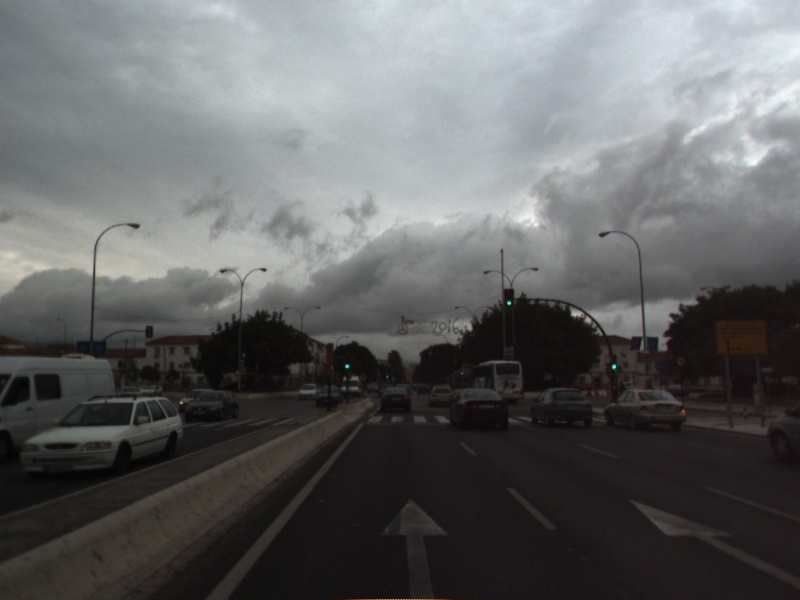STRAIGHT: (627, 498, 800, 590), (376, 494, 452, 600)
